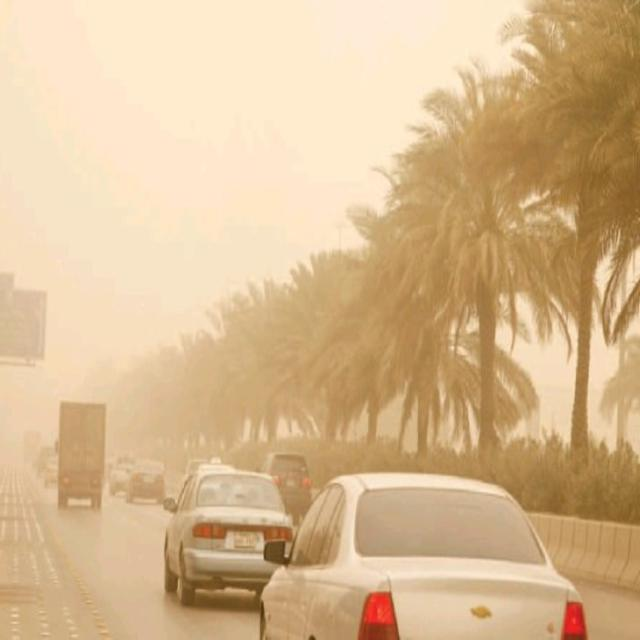bus: (58, 402, 106, 512)
car: (256, 470, 582, 639), (161, 470, 297, 607), (257, 449, 314, 528), (124, 458, 166, 505), (110, 463, 130, 499), (46, 460, 58, 487)
